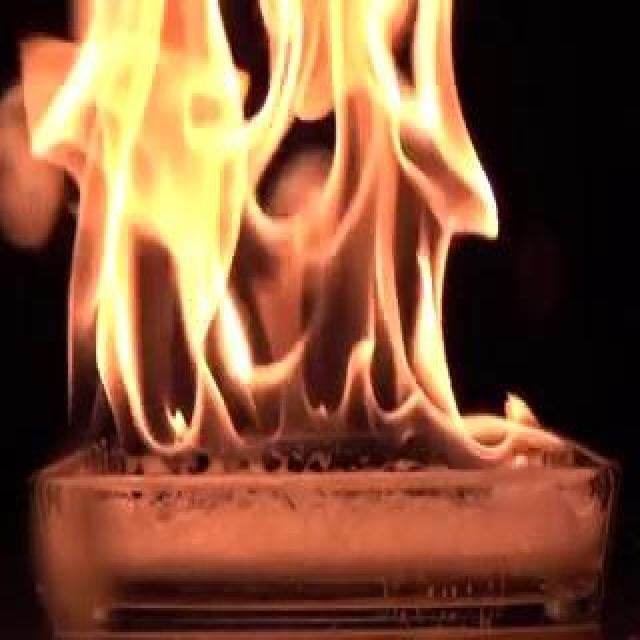Fire: (298, 242, 552, 480)
